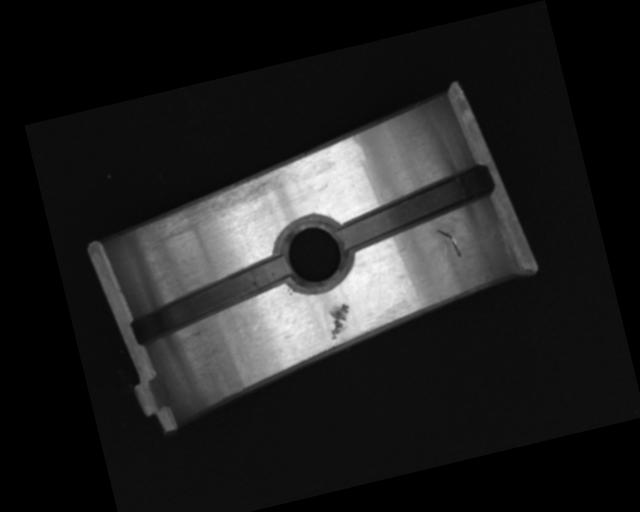bruise: (323, 301, 355, 340)
gap: (123, 254, 297, 345), (331, 163, 499, 251)
hole: (271, 211, 356, 296)
nick: (436, 224, 463, 261)
scratch: (149, 167, 294, 242)
